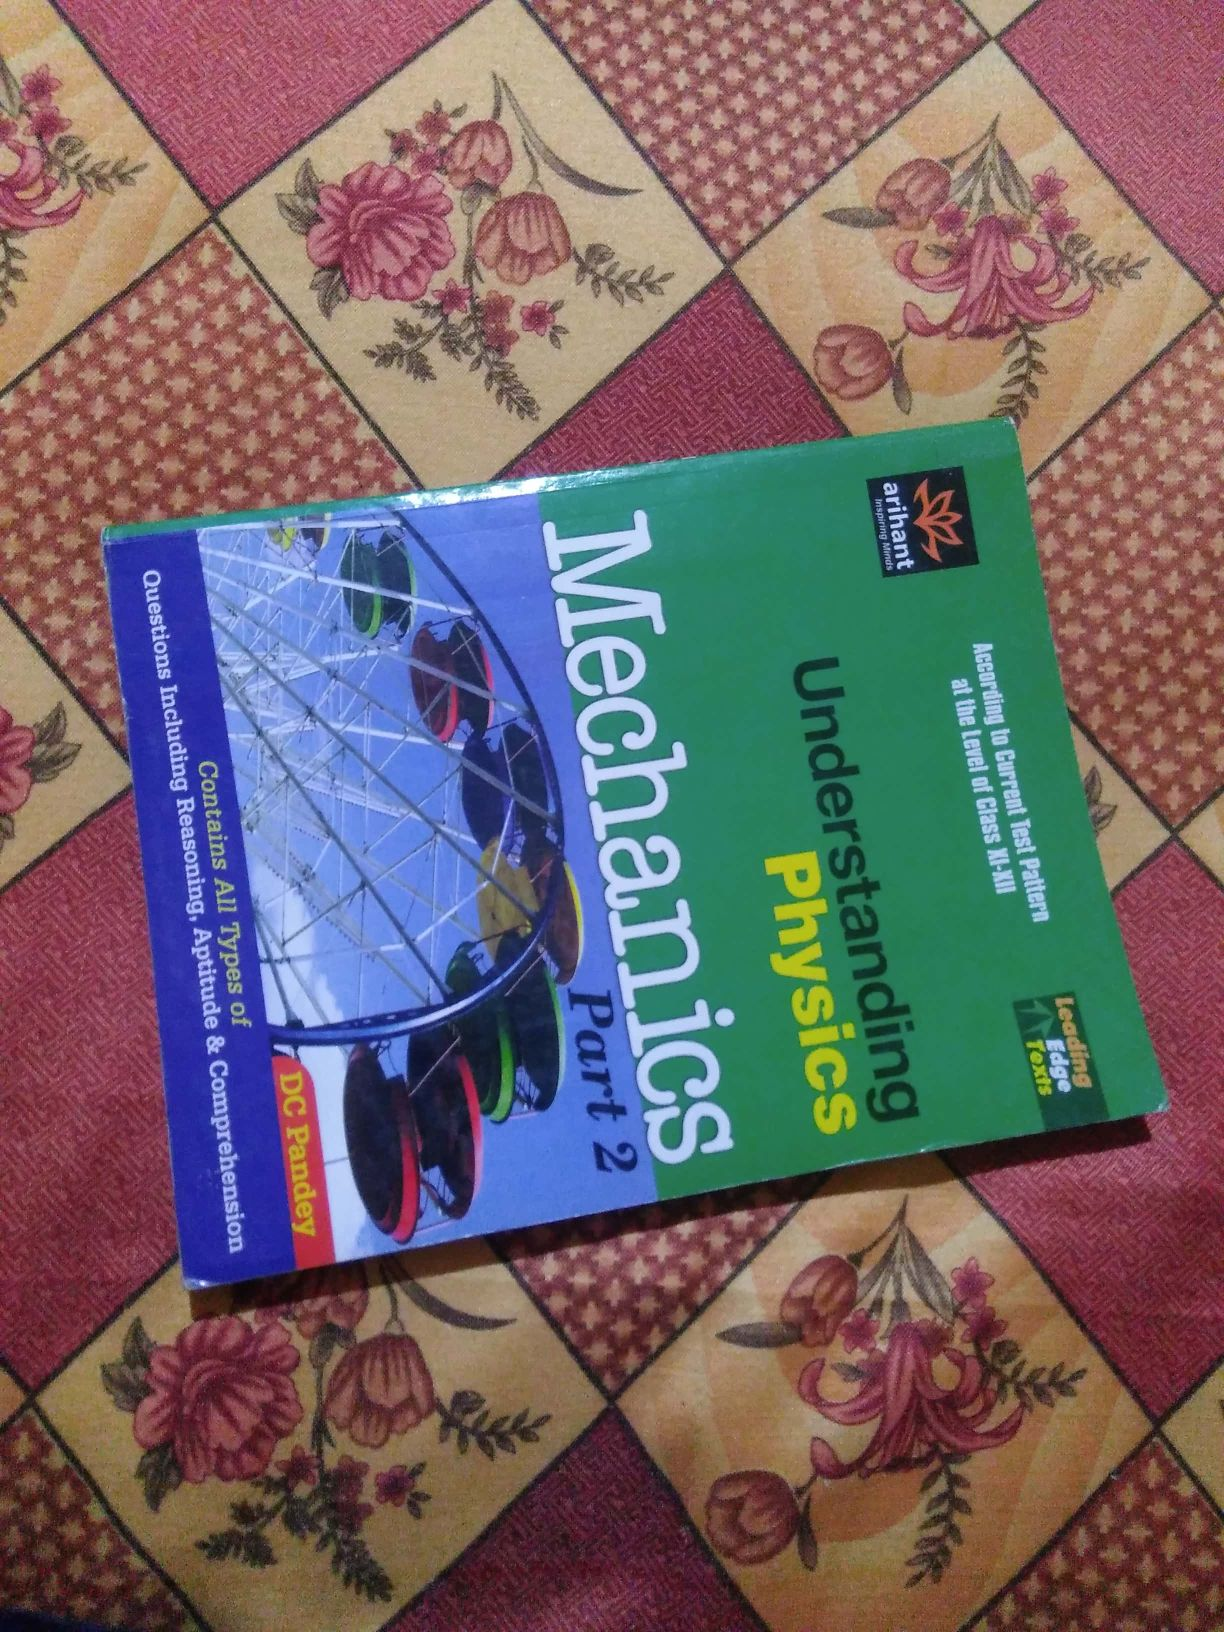mechanics: (64, 454, 1171, 1248)
